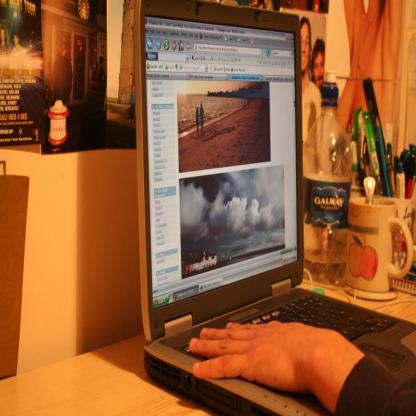board: (132, 0, 416, 416), (304, 70, 352, 283)
